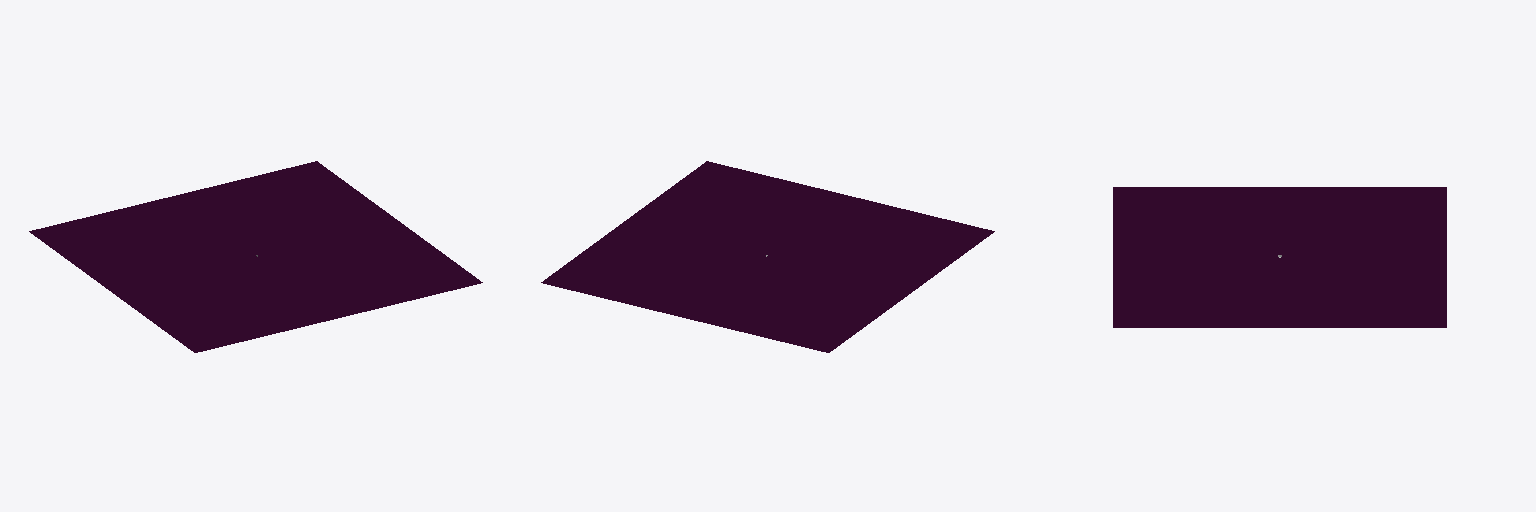
Rendered from office.obj.
The picture shows the model from 3 angles: view 1: azimuth 30°, elevation 25°; view 2: azimuth 150°, elevation 25°; view 3: azimuth 270°, elevation 25°; orthographic projection.
Parts seen in each view (by area): view 1: Plane.002; view 2: Plane.002; view 3: Plane.002.
Part boxes in pixels (x1,y1,x2,y2): Plane.002: (29,161,482,352); Plane.002: (541,161,994,352); Plane.002: (1113,187,1446,327).
Bounding box in the file's own units: 547 × 4.33 × 547.